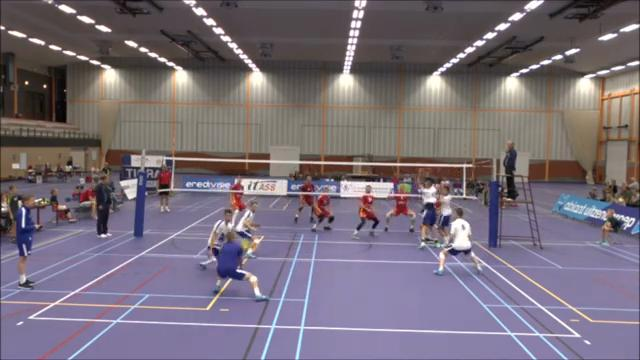difesa: (211, 231, 269, 301)
